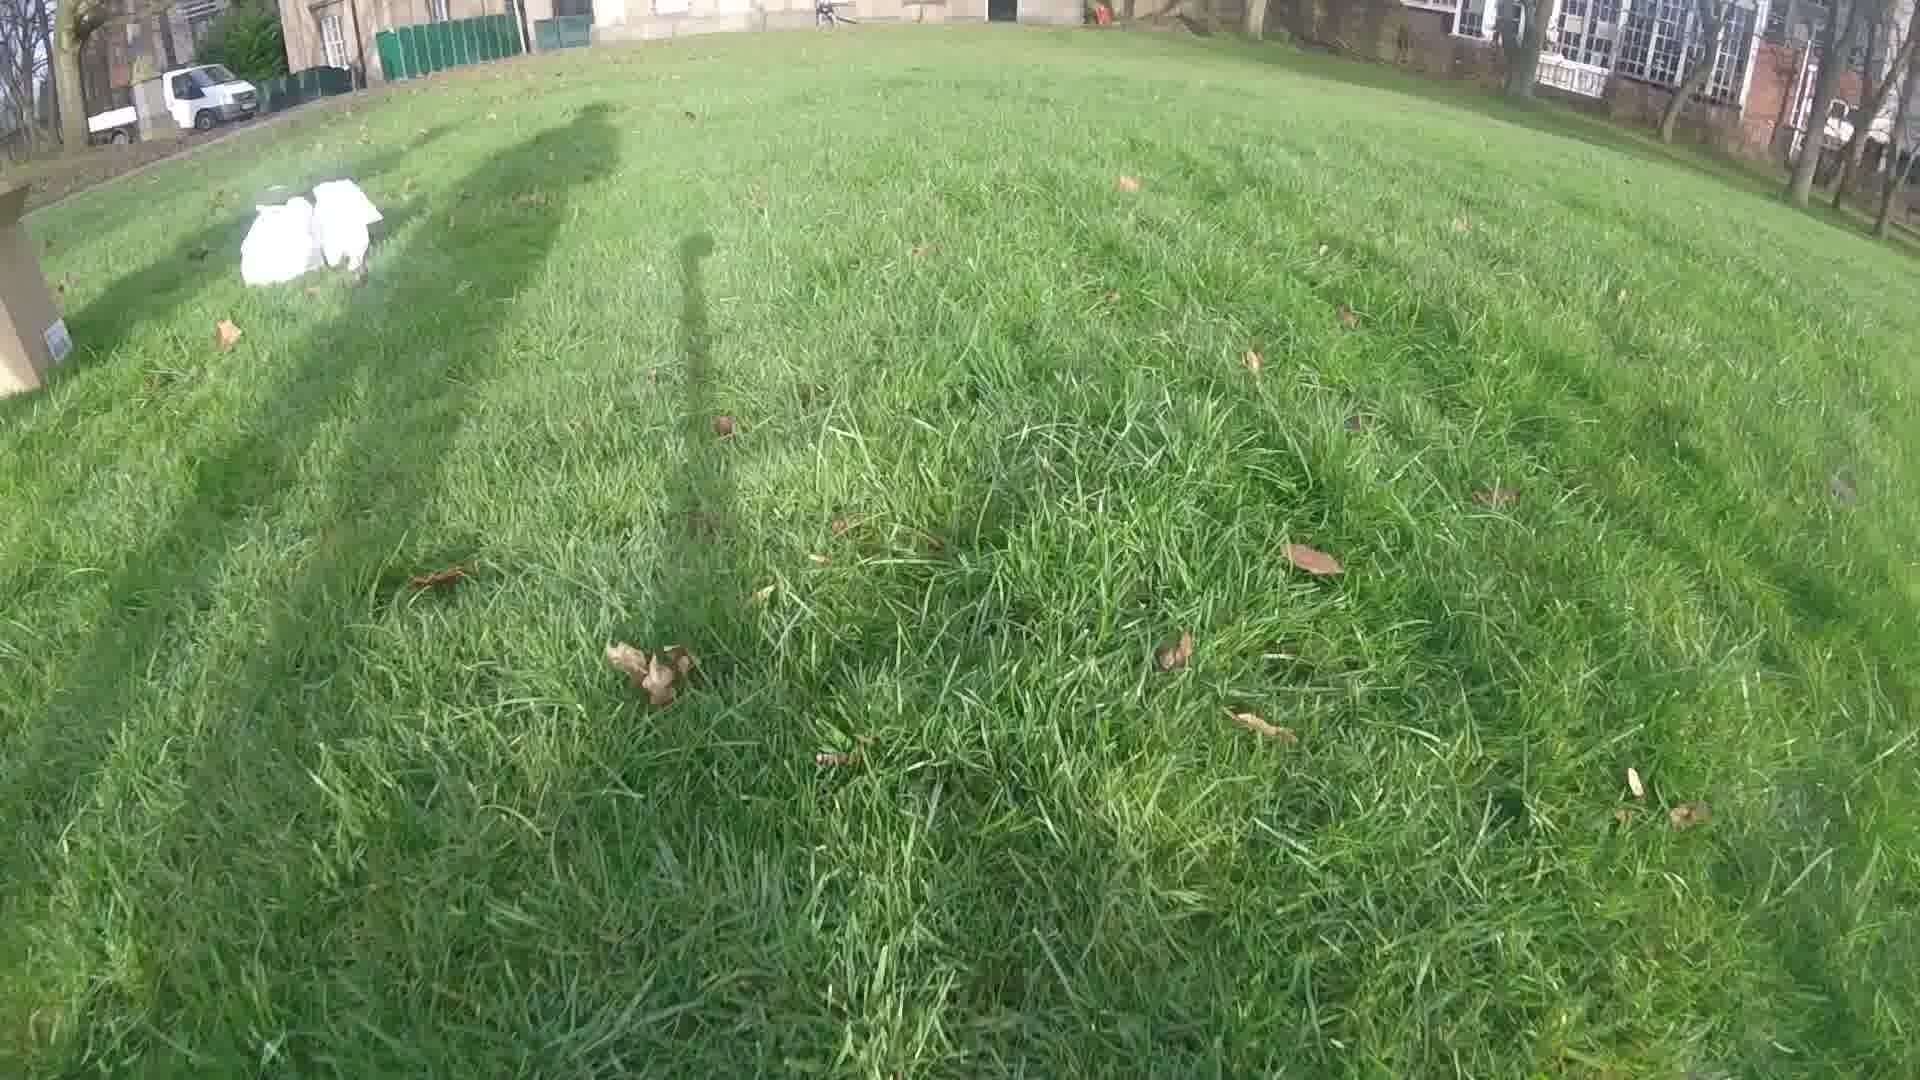litter: (247, 189, 378, 293)
